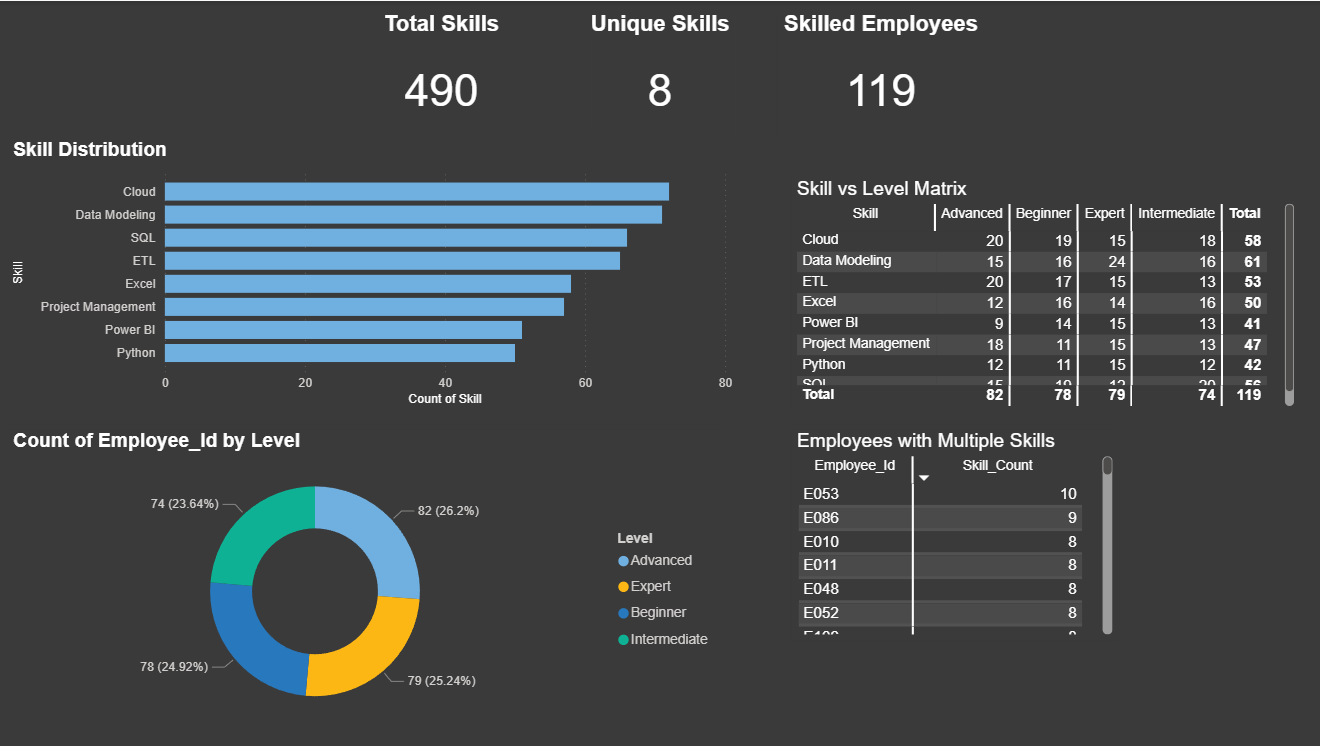

The page's visual inventory and layout, read from the dashboard file:
{"tool":"powerbi","page":{"name":"Skills & Workforce Capability","canvas":[1280,720],"ordinal":2},"visuals":[{"type":"cardVisual","title":"Total Skills","fields":{"Data":["CountNonNull(wfrpua skills_clean.Skill)"]},"box":[362.9,10,130,122.9],"z":0},{"type":"cardVisual","title":"Unique Skills","fields":{"Data":["Count(wfrpua skills_clean.Skill)"]},"box":[567.1,10,144.3,122.9],"z":1000},{"type":"cardVisual","title":"Skilled Employees","fields":{"Data":["Count(wfrpua skills_clean.Employee_Id)"]},"box":[751.4,10,201.4,122.9],"z":2000},{"type":"clusteredBarChart","title":"Skill Distribution","fields":{"Category":["wfrpua skills_clean.Skill"],"Y":["CountNonNull(wfrpua skills_clean.Skill)"]},"box":[10,132.9,704.3,262.9],"z":3000},{"type":"donutChart","fields":{"Category":["wfrpua skills_clean.Level"],"Y":["Count(wfrpua skills_clean.Employee_Id)"]},"box":[10,414.3,690,291.4],"z":4000},{"type":"pivotTable","title":"Skill vs Level Matrix","fields":{"Rows":["wfrpua skills_clean.Skill"],"Columns":["wfrpua skills_clean.Level"],"Values":["Count(wfrpua skills_clean.Employee_Id)"]},"box":[765.7,170,490,225.7],"z":5000},{"type":"tableEx","title":"Employees with Multiple Skills ","fields":{"Values":["wfrpua skills_clean.Employee_Id","CountNonNull(wfrpua skills_clean.Employee_Id)"]},"box":[765.7,414.3,314.3,202.9],"z":6000}]}

Visuals, with their boxes in screenshot pixels (x1, y1, x2, y2), scaled from the page's 1280x720 canvas onto the 1320x746 screenshot:
"Total Skills" cardVisual: (x1=374, y1=10, x2=508, y2=138)
"Unique Skills" cardVisual: (x1=585, y1=10, x2=734, y2=138)
"Skilled Employees" cardVisual: (x1=775, y1=10, x2=983, y2=138)
"Skill Distribution" clusteredBarChart: (x1=10, y1=138, x2=737, y2=410)
donutChart - wfrpua skills_clean.Level x Count(wfrpua skills_clean.Employee_Id): (x1=10, y1=429, x2=722, y2=731)
"Skill vs Level Matrix" pivotTable: (x1=790, y1=176, x2=1295, y2=410)
"Employees with Multiple Skills " tableEx: (x1=790, y1=429, x2=1114, y2=639)
